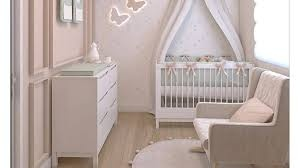crib: (156, 56, 255, 128)
